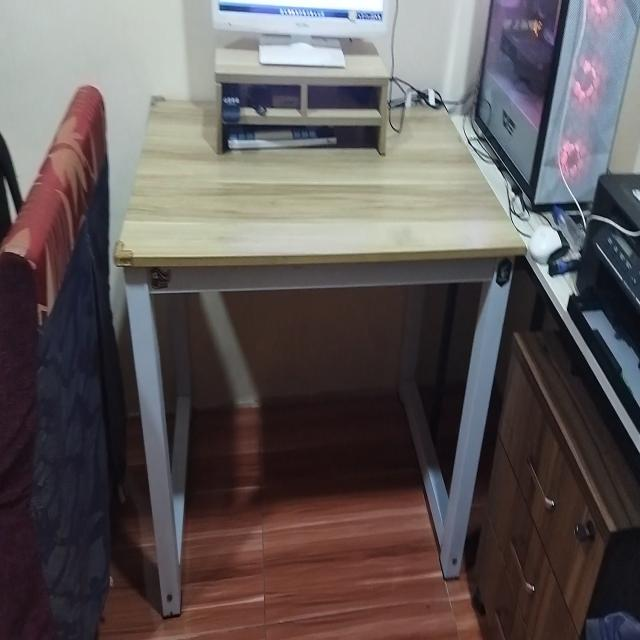table: (102, 94, 522, 590)
